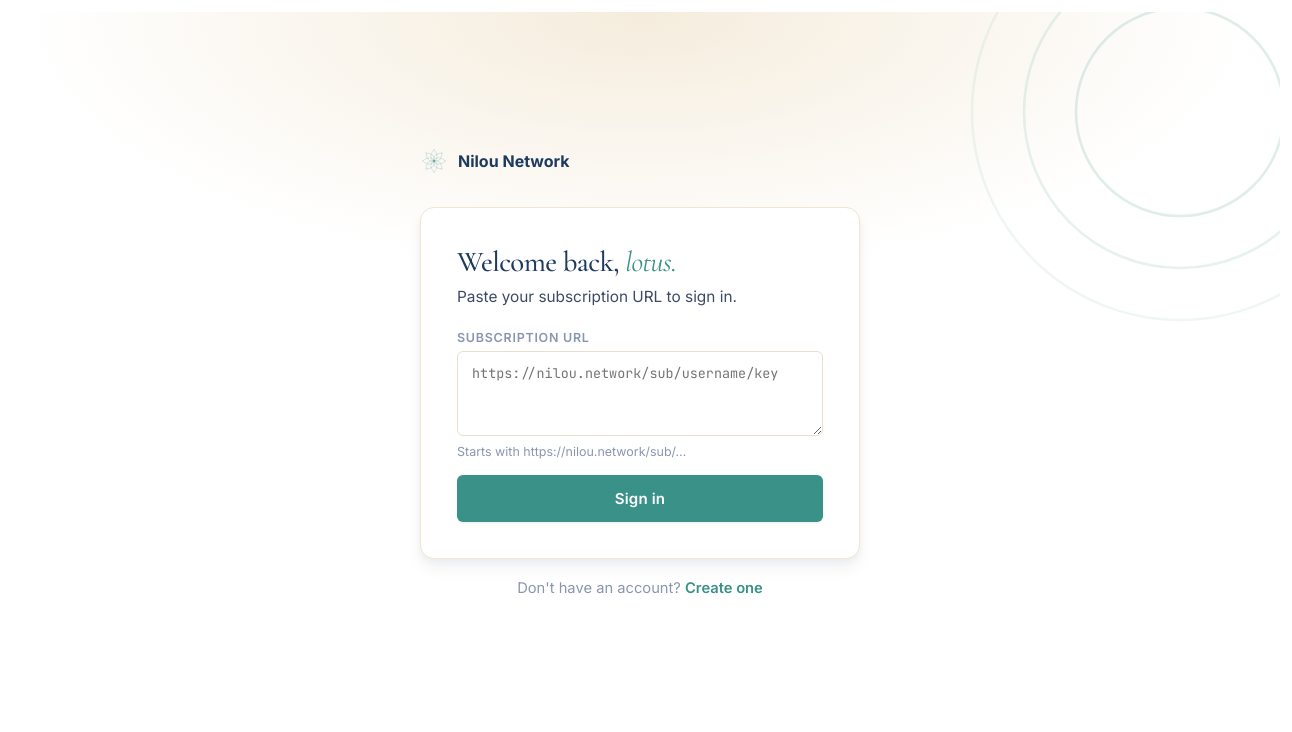
Test: LoginPage submit flow › on 401: clears the input and shows backend detail
Type "https://nilou.cc/sub/wrong/key" into the text box with placeholder "https://nilou.network/sub/username/key" at (640,394), box [457,351,823,436]
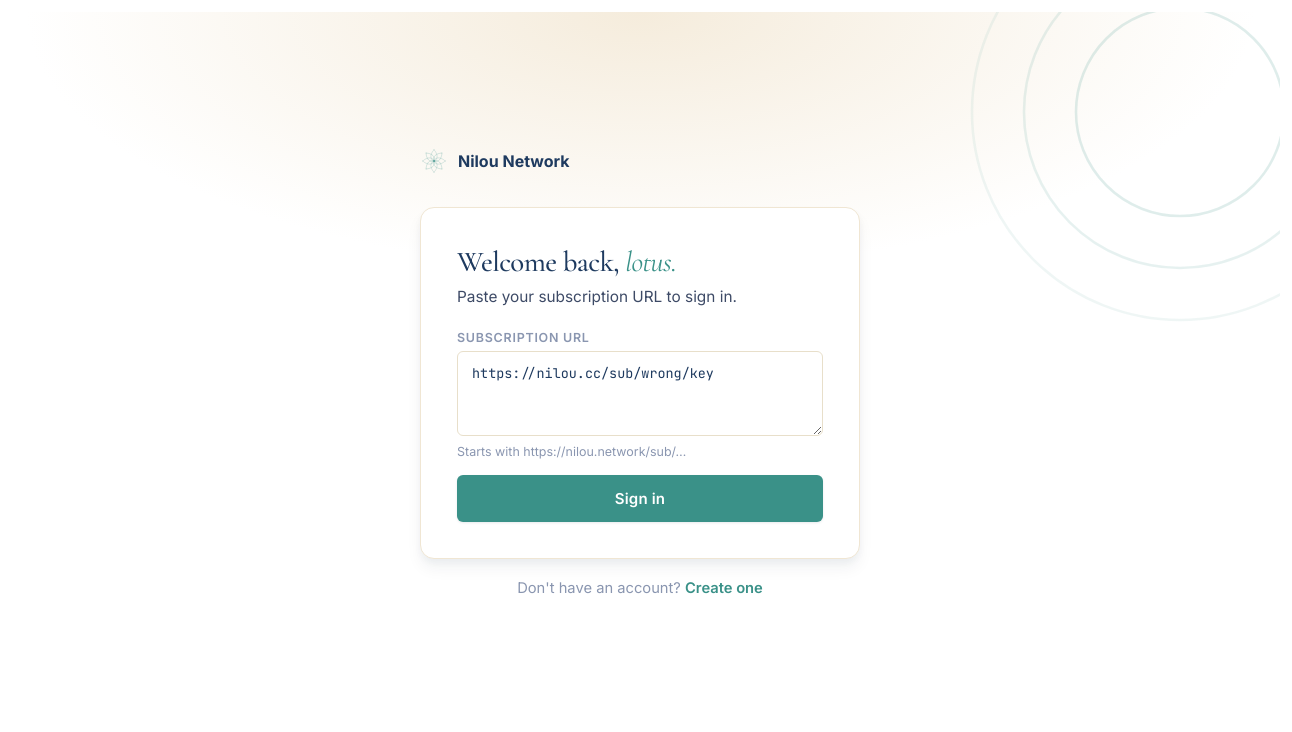
Click the button "Sign in" at (640,498), box [457,475,823,522]
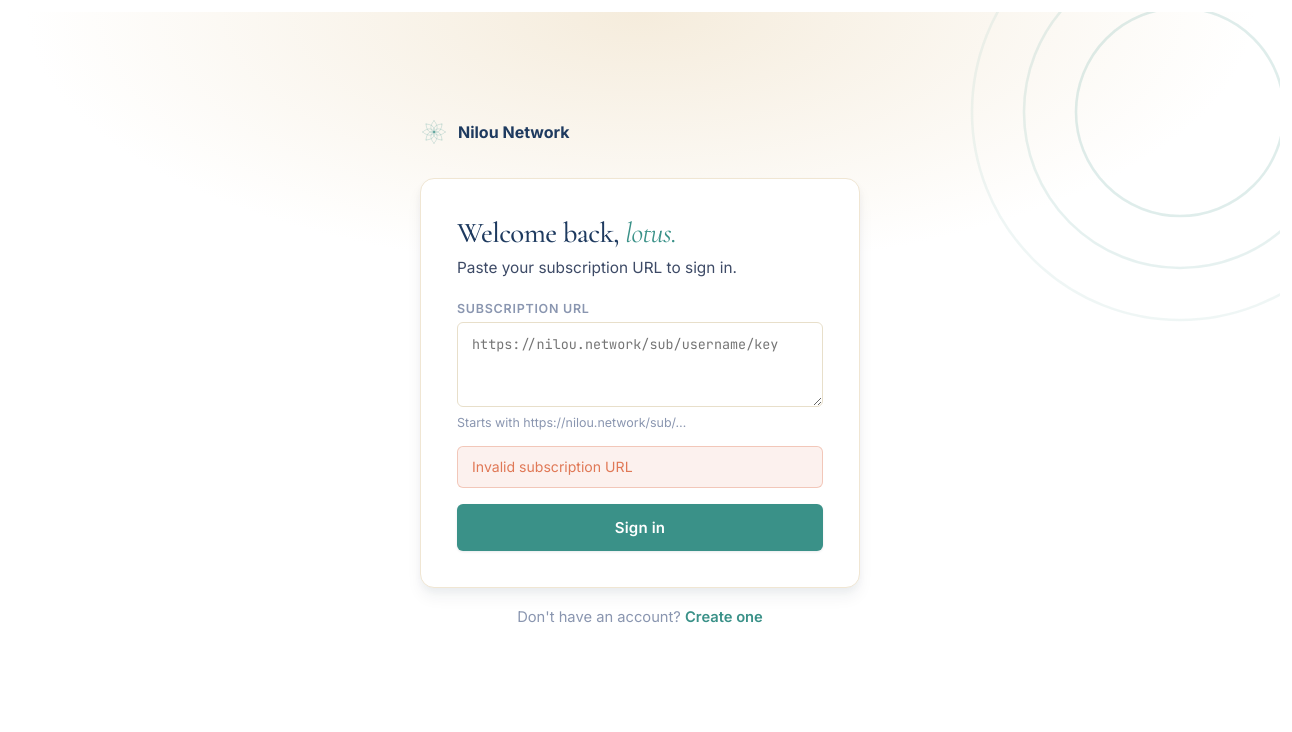
Expected: the message reads "Invalid subscription URL", [472,458,633,474]
Expected: the text box with placeholder "https://nilou.network/sub/username/key" is empty, [457,322,823,407]
